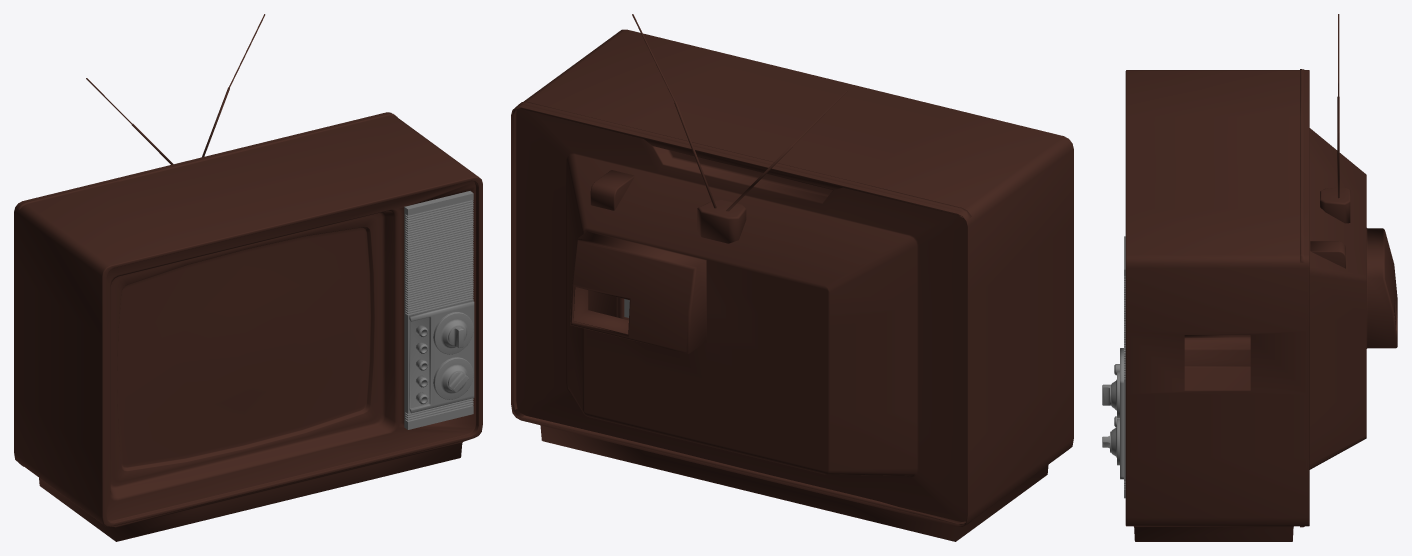
3 views of the same model, side by side, from view 1: azimuth 30°, elevation 25°; view 2: azimuth 150°, elevation 25°; view 3: azimuth 270°, elevation 25° (orthographic). The views are drawn at different scales.
Parts seen in each view (by area): view 1: Plane, Circle.002, Plane.001; view 2: Plane, Plane.001; view 3: Plane, Circle.002, Plane.001.
Boxes of the visible parts, x1,y1,x2,y2 form: Plane: (14,112,482,541); Circle.002: (404,191,474,429); Plane.001: (86,14,265,164); Plane: (511,29,1073,541); Plane.001: (632,14,847,211); Plane: (1125,69,1397,541); Circle.002: (1102,236,1125,498); Plane.001: (1337,14,1339,198).
Size of the model in its own units: 430 by 428 by 279.
